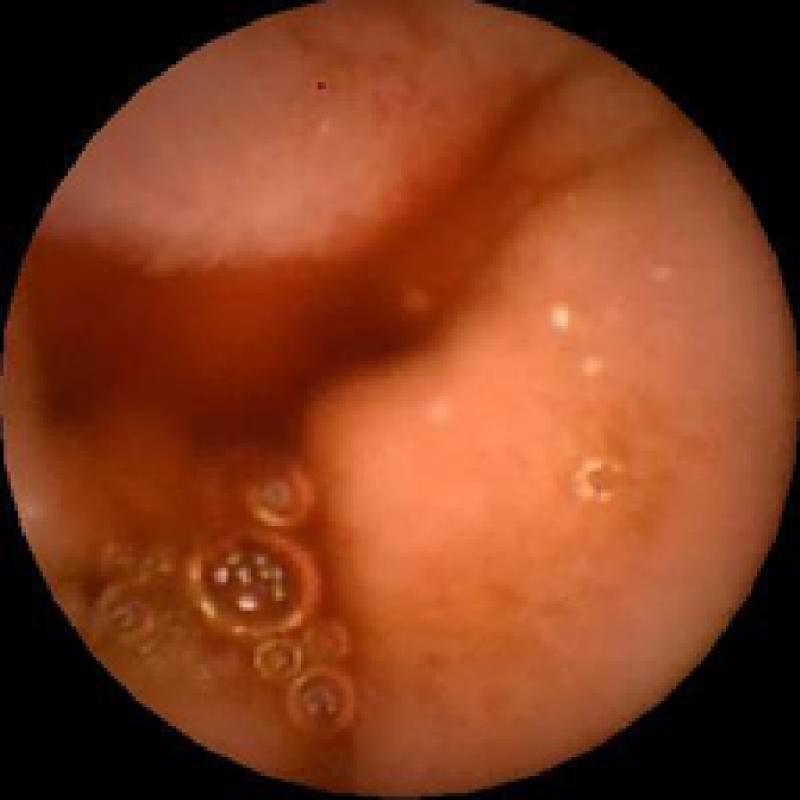bleeding: (128, 32, 578, 750)
